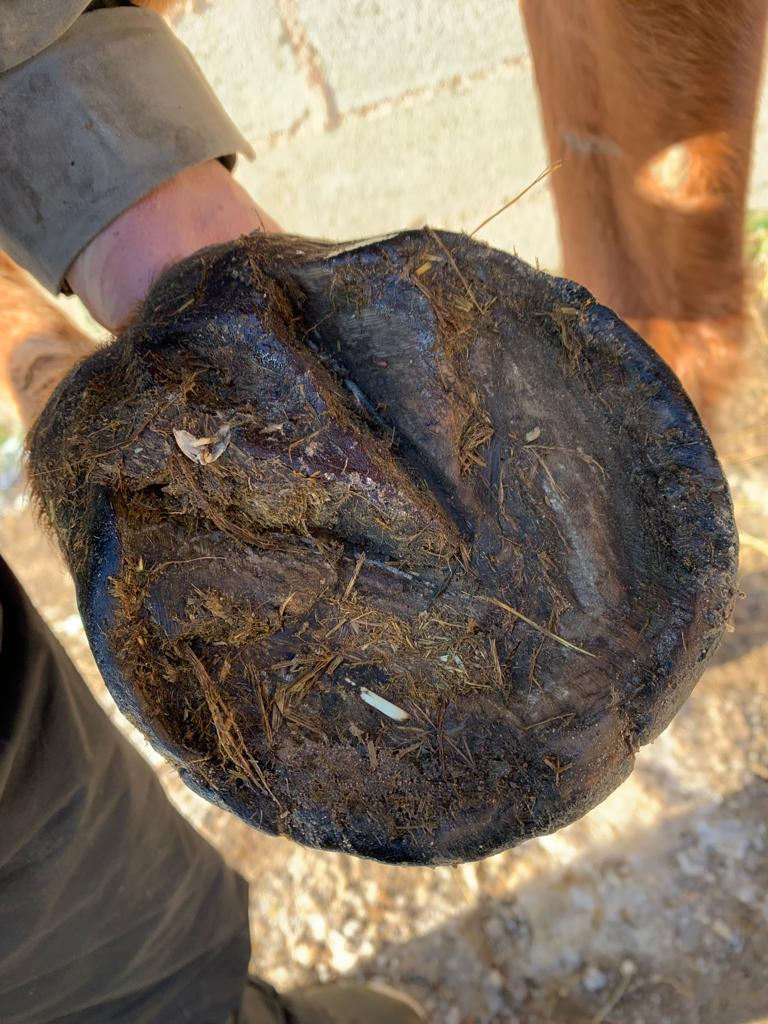horsesole: (82, 231, 740, 866)
